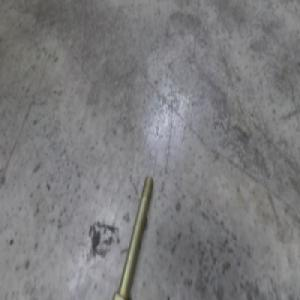Bolt: (120, 176, 153, 284)
